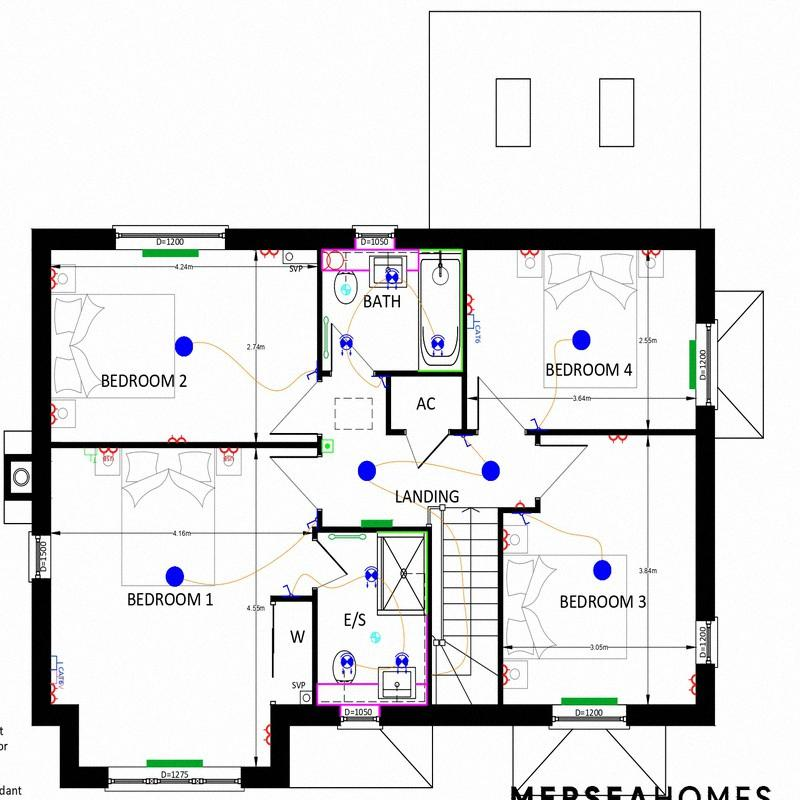Cat 6 Data Socket: (466, 315, 481, 343), (51, 656, 63, 683)
Ceiling Mounted Continuous Extract FanWith Boost Mode Activated By Light Switch: (341, 284, 351, 295), (371, 632, 380, 643)
Double Socket: (608, 435, 628, 445), (520, 250, 540, 259), (641, 250, 661, 259), (51, 684, 60, 704), (688, 675, 696, 697), (51, 268, 59, 289), (467, 294, 475, 315), (503, 529, 511, 550), (51, 404, 59, 424), (263, 724, 270, 746), (260, 250, 279, 258), (503, 665, 510, 686), (168, 434, 186, 442)
Full Height Tiling: (420, 249, 463, 372), (379, 531, 428, 613)
Light Switch: (460, 435, 472, 448), (306, 369, 317, 381), (529, 418, 541, 429), (519, 513, 530, 525), (306, 518, 317, 530), (282, 585, 294, 595), (379, 377, 387, 389)
Low Energy Downlighter: (385, 268, 400, 290), (430, 334, 445, 356), (364, 566, 378, 588), (340, 653, 354, 675), (395, 653, 409, 674), (340, 334, 353, 356)
Low Energy Pendant Light: (165, 566, 185, 587), (174, 336, 193, 357), (572, 330, 591, 351), (482, 460, 500, 481), (593, 559, 611, 580), (358, 461, 376, 481)
Programmable Room Thermostat: (322, 440, 334, 452)
Radiator: (143, 249, 198, 258), (147, 760, 203, 768), (562, 698, 617, 706), (690, 341, 696, 389), (362, 521, 393, 527)
Shaver Socket: (320, 251, 348, 269)
Single Socket: (515, 500, 525, 507)
TV & Satellite Multisocket: (51, 670, 64, 688)
USB Double Socket: (99, 448, 119, 462), (219, 448, 240, 461)
